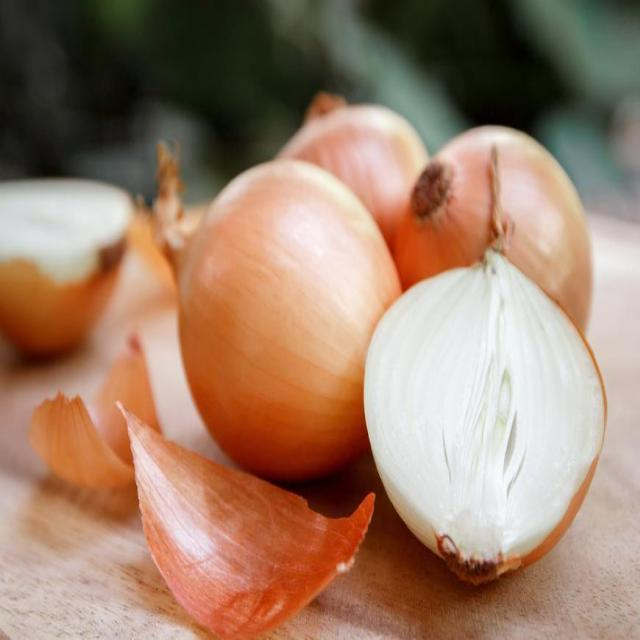Onion: (361, 144, 608, 588), (148, 137, 402, 483), (113, 398, 374, 640), (395, 122, 593, 339), (273, 93, 430, 260), (0, 176, 135, 354), (28, 336, 160, 490)
